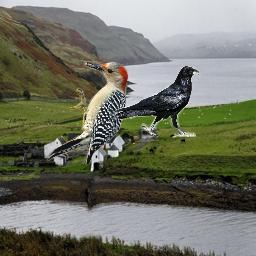Crow: (113, 66, 201, 137)
Woodpecker: (43, 57, 139, 164)
